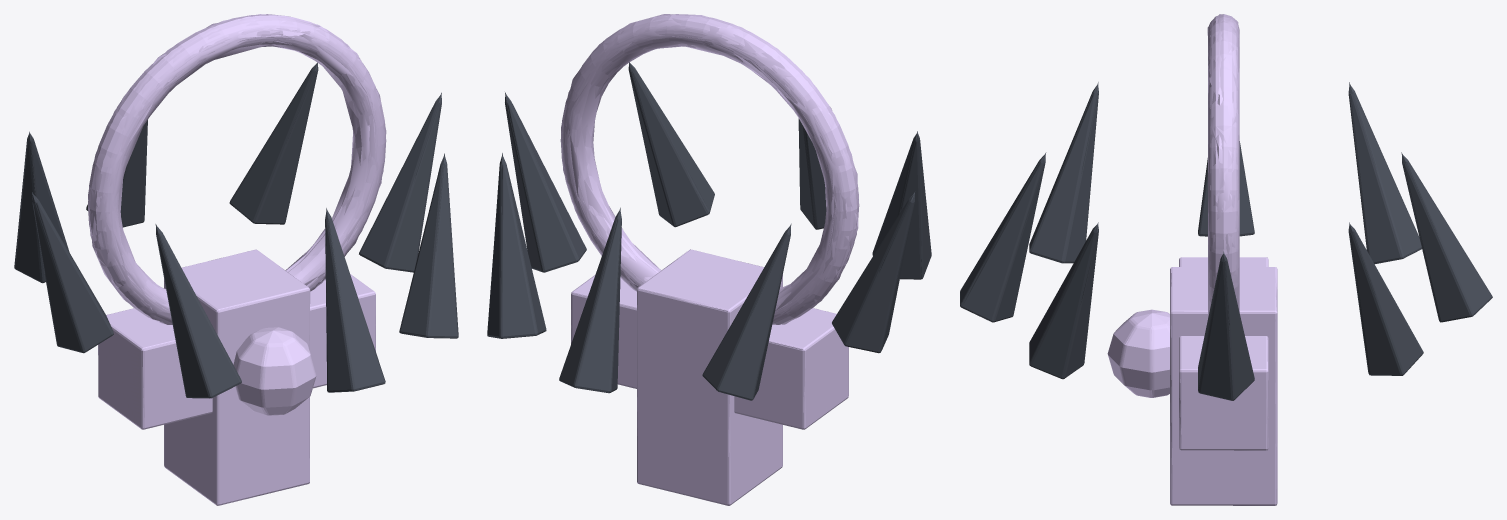
File: SM_Boss_Marktturm.fbx
3 views of the same model, side by side, from view 1: azimuth 30°, elevation 25°; view 2: azimuth 150°, elevation 25°; view 3: azimuth 270°, elevation 25° (orthographic).
Parts seen in each view (by area): view 1: LOD0_SM_Boss_Marktturm, LOD1_SM_Boss_Marktturm, LOD2_SM_Boss_Marktturm, LOD3_SM_Boss_Marktturm; view 2: LOD0_SM_Boss_Marktturm, LOD1_SM_Boss_Marktturm, LOD3_SM_Boss_Marktturm, LOD2_SM_Boss_Marktturm; view 3: LOD0_SM_Boss_Marktturm, LOD1_SM_Boss_Marktturm, LOD2_SM_Boss_Marktturm, LOD3_SM_Boss_Marktturm.
Boxes of the visible parts, bbox=[...] form: LOD0_SM_Boss_Marktturm: bbox=[14, 14, 458, 505]; LOD1_SM_Boss_Marktturm: bbox=[14, 15, 458, 505]; LOD2_SM_Boss_Marktturm: bbox=[31, 14, 427, 505]; LOD3_SM_Boss_Marktturm: bbox=[29, 14, 444, 322]; LOD0_SM_Boss_Marktturm: bbox=[487, 14, 931, 505]; LOD1_SM_Boss_Marktturm: bbox=[487, 14, 923, 505]; LOD3_SM_Boss_Marktturm: bbox=[502, 14, 917, 324]; LOD2_SM_Boss_Marktturm: bbox=[494, 15, 902, 505]; LOD0_SM_Boss_Marktturm: bbox=[960, 14, 1492, 505]; LOD1_SM_Boss_Marktturm: bbox=[960, 17, 1492, 505]; LOD2_SM_Boss_Marktturm: bbox=[960, 14, 1492, 505]; LOD3_SM_Boss_Marktturm: bbox=[1044, 14, 1402, 311].
Bounding box in the file's own units: 3.75 × 3.99 × 4.24.
